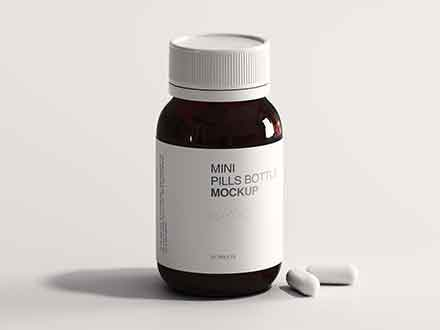Medicine: (146, 26, 288, 305)
